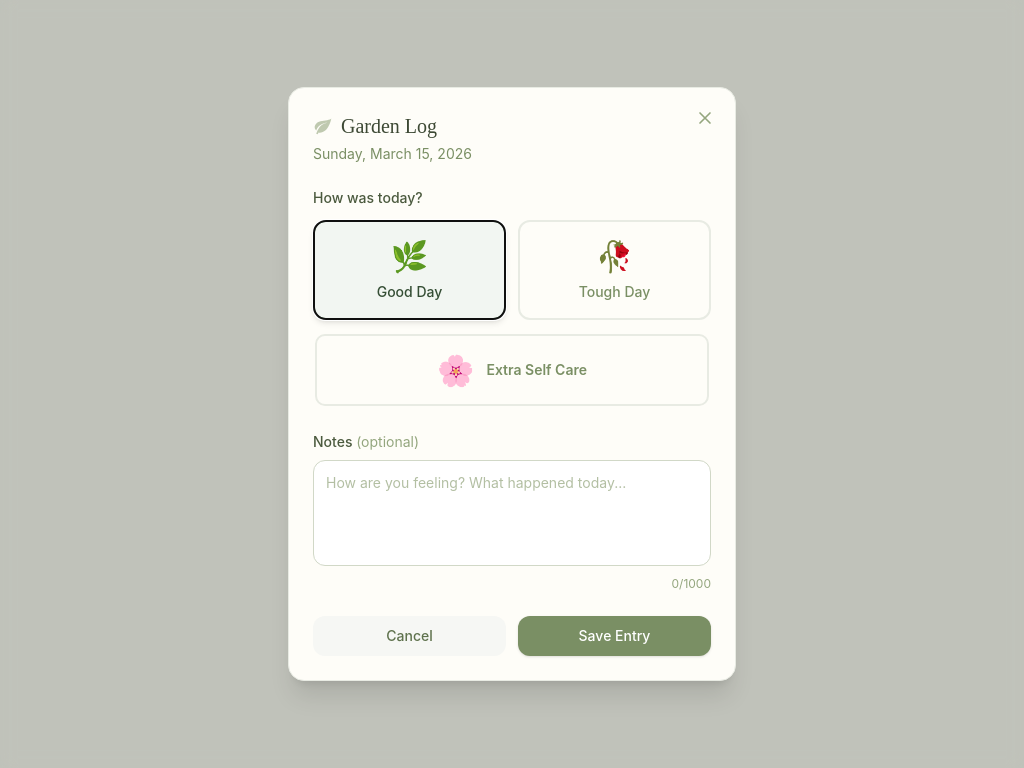
Test case: DayModal › shows encouragement text when Self Care is selected
expect the text "You deserve this" is not shown: met
Click the button "🌸 Extra Self Care": (512, 370) x1=315 y1=334 x2=709 y2=406
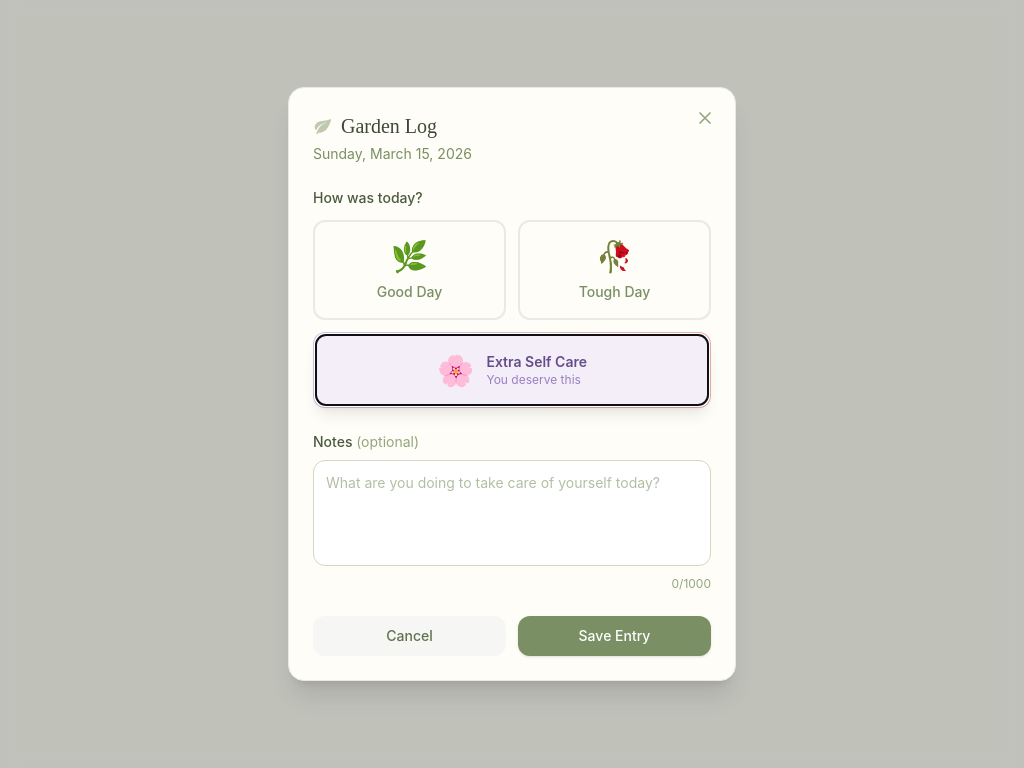
expect the text "You deserve this" is shown: met, box x1=486 y1=372 x2=581 y2=388
